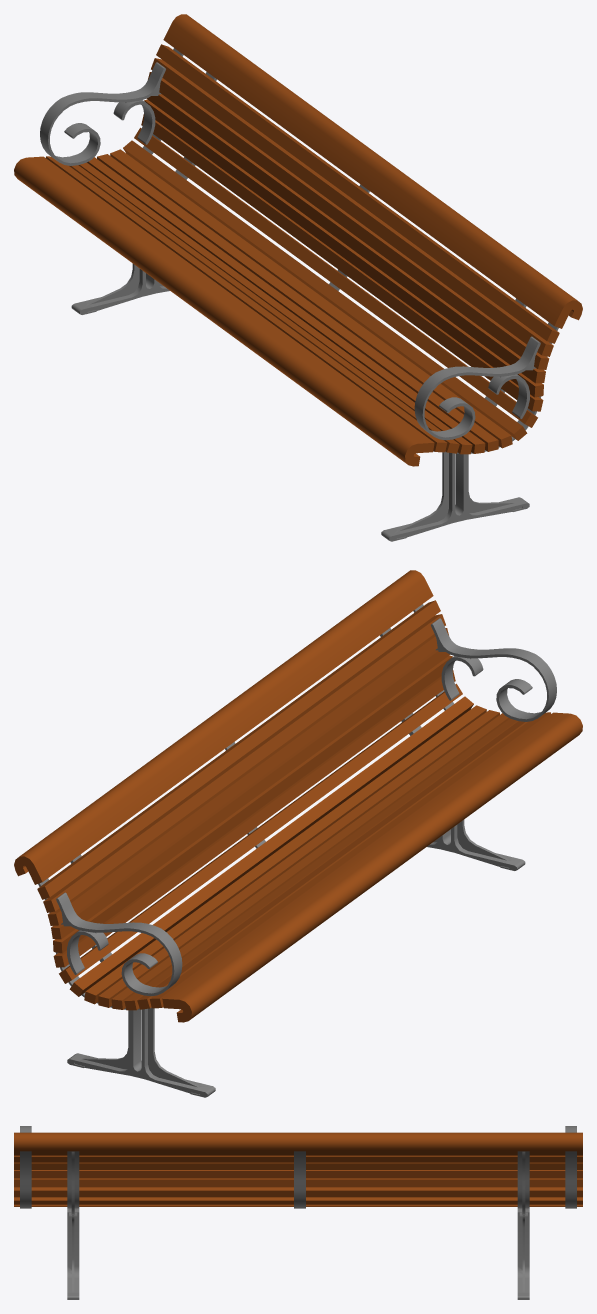
Rendered from Park Bench.fbx.
3 renders of one model, top to bottom at view 1: azimuth 30°, elevation 25°; view 2: azimuth 150°, elevation 25°; view 3: azimuth 270°, elevation 25°, orthographic. The views are drawn at different scales.
Parts seen in each view (by area): view 1: Component_2_2, Component_2_1, Component_1_14, Component_1_13, Component_1_7, Component_1_12, Component_1_11, Component_1_8, Component_1_9, Component_1_10, Component_1_6, Component_1_5 (+8 smaller); view 2: Component_2_2, Component_2_1, Component_1_14, Component_1_13, Component_1_7, Component_1_12, Component_1_11, Component_1_8, Component_1_9, Component_1_10, Component_1_6, Component_1_5 (+8 smaller); view 3: Component_2_2, Component_1_9, Component_1_10, Component_1_11, Component_1_8, Component_1_12, Component_1_13, Component_1_14, Component_1_7, Component_5_1, Component_5_2, Component_3_1 (+4 smaller).
Boxes of the visible parts, box(x1,y1,x2,y2) form: Component_2_2: box(163, 14, 582, 328); Component_2_1: box(14, 156, 434, 466); Component_1_14: box(156, 44, 559, 343); Component_1_13: box(151, 58, 553, 356); Component_1_7: box(123, 140, 527, 440); Component_1_12: box(148, 72, 549, 369); Component_1_11: box(147, 94, 545, 383); Component_1_8: box(134, 127, 537, 427); Component_1_9: box(141, 114, 543, 411); Component_1_10: box(144, 99, 543, 397); Component_1_6: box(110, 149, 512, 448); Component_1_5: box(97, 154, 498, 451); Component_2_2: box(14, 570, 433, 884); Component_2_1: box(162, 712, 582, 1022); Component_1_14: box(37, 600, 440, 899); Component_1_13: box(43, 614, 445, 912); Component_1_7: box(69, 696, 473, 996); Component_1_12: box(47, 628, 448, 925); Component_1_11: box(51, 650, 449, 939); Component_1_8: box(59, 683, 462, 983); Component_1_9: box(53, 670, 455, 967); Component_1_10: box(53, 655, 452, 953); Component_1_6: box(84, 705, 486, 1004); Component_1_5: box(98, 710, 499, 1007); Component_2_2: box(14, 1132, 582, 1151); Component_1_9: box(14, 1187, 582, 1197); Component_1_10: box(14, 1178, 582, 1187); Component_1_11: box(14, 1170, 582, 1178); Component_1_8: box(14, 1197, 582, 1204); Component_1_12: box(14, 1162, 582, 1169); Component_1_13: box(14, 1155, 582, 1162); Component_1_14: box(14, 1151, 582, 1155); Component_1_7: box(14, 1204, 582, 1206); Component_5_1: box(517, 1208, 529, 1299); Component_5_2: box(67, 1208, 79, 1299); Component_3_1: box(67, 1151, 79, 1214).
Bounding box in the file's own units: 25.23 × 31.57 × 96.
